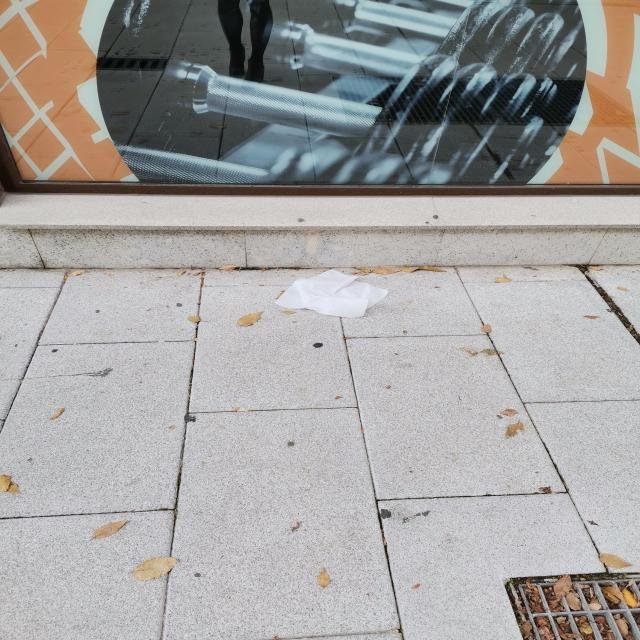litter: (273, 268, 391, 319)
